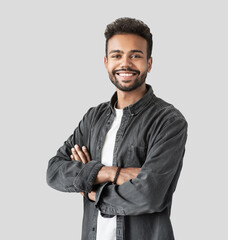young: (102, 20, 158, 95)
